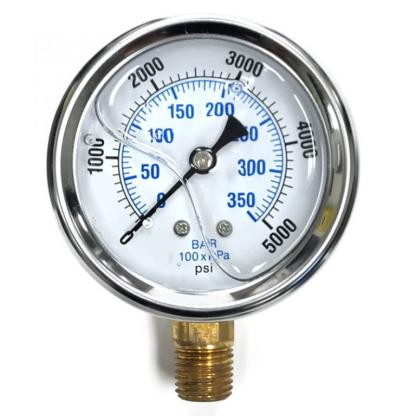needle: (126, 168, 197, 237)
